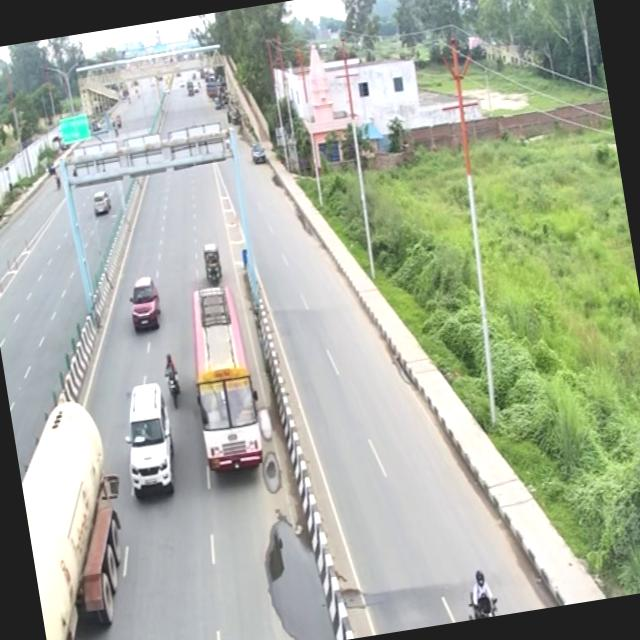car: (111, 373, 186, 504), (122, 269, 166, 334), (198, 237, 226, 283)
